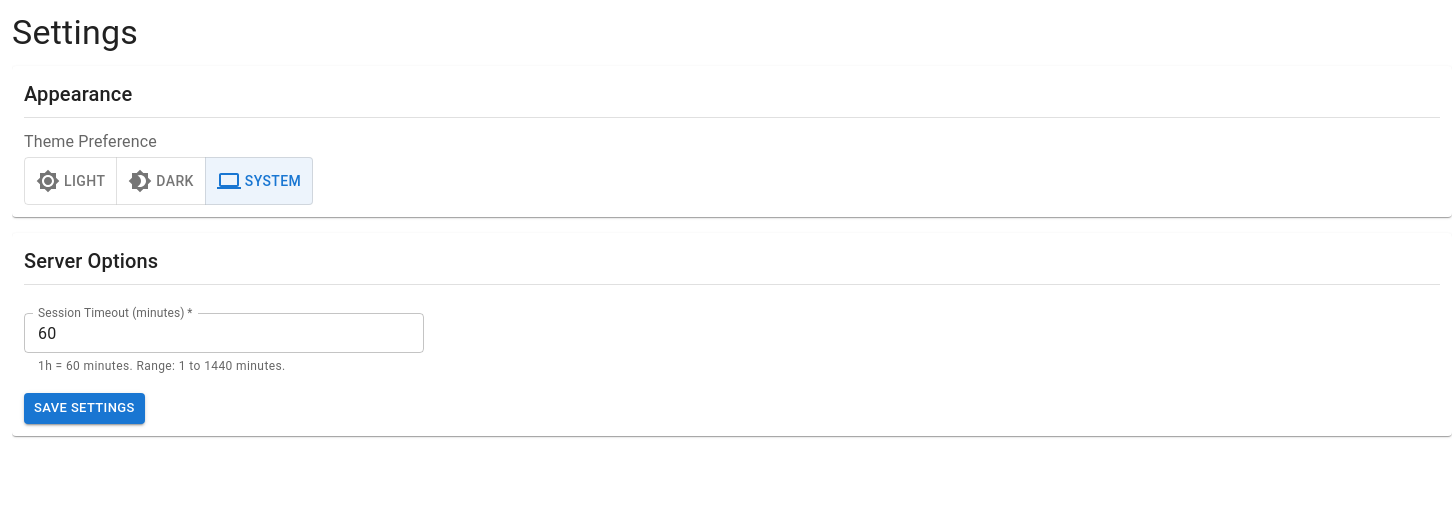
Test: SettingsPage › can update server timeout
This screenshot has width=1452, height=515.
Replace the text in the field labelled "Session Timeout (minutes) *" with "120" at (224, 333), box [24, 313, 424, 353]
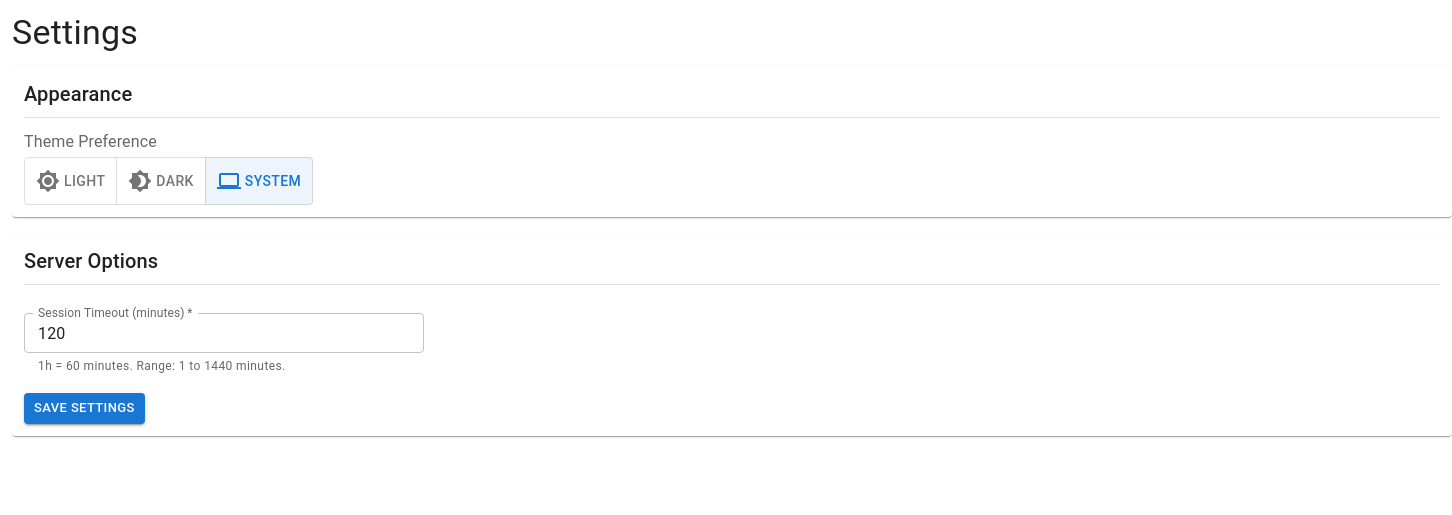
Click the button "Save Settings".
click(84, 409)  # box [24, 393, 145, 424]
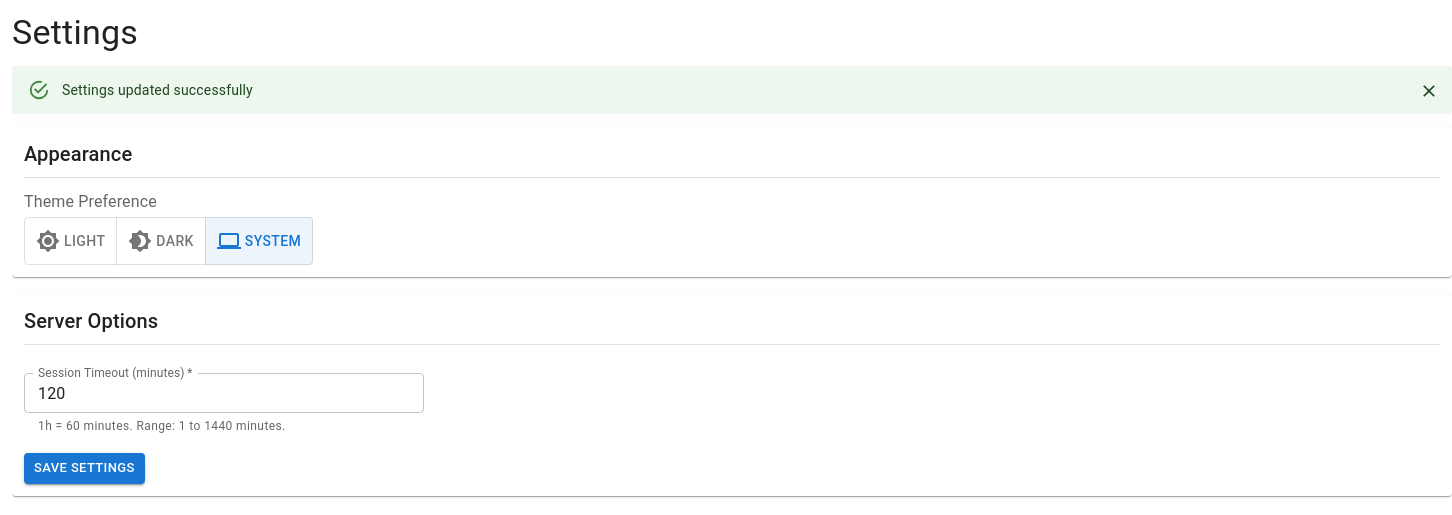
Result: the text "Settings updated successfully" is shown at [62, 82, 253, 98]
